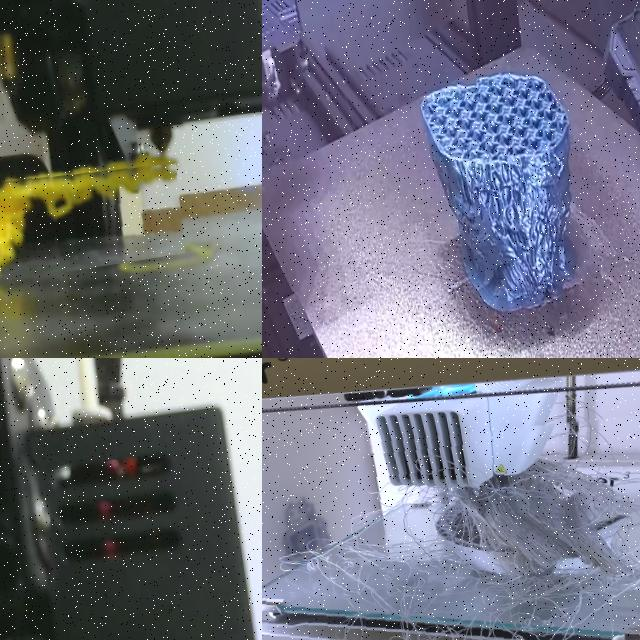spaghetti: (262, 389, 640, 640), (0, 164, 177, 275)
